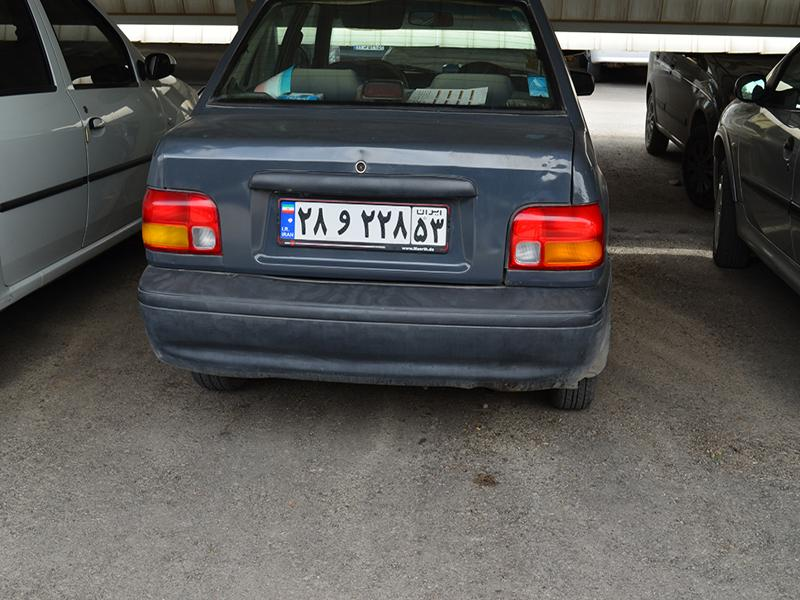Plate: (259, 191, 467, 261)
